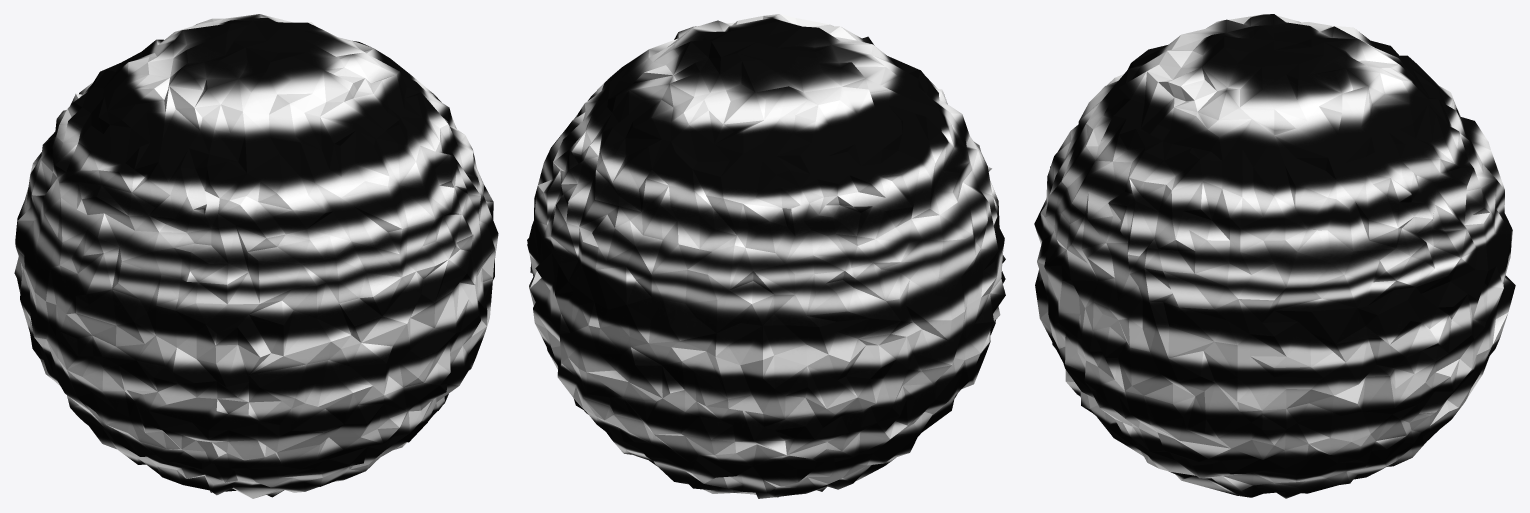
Rendered from SM_Env_Planet_08.fbx.
3 views of the same model, side by side, from view 1: azimuth 30°, elevation 25°; view 2: azimuth 150°, elevation 25°; view 3: azimuth 270°, elevation 25° (orthographic).
Parts seen in each view (by area): view 1: SM_Env_Planet_08_LOD0; view 2: SM_Env_Planet_08_LOD0; view 3: SM_Env_Planet_08_LOD0.
Boxes of the visible parts, bbox=[...] form: SM_Env_Planet_08_LOD0: bbox=[14, 14, 498, 498]; SM_Env_Planet_08_LOD0: bbox=[527, 14, 1005, 498]; SM_Env_Planet_08_LOD0: bbox=[1034, 14, 1515, 498].
Size of the model in its own units: 45748 by 45476 by 45553.
1 material, 1 textured.
